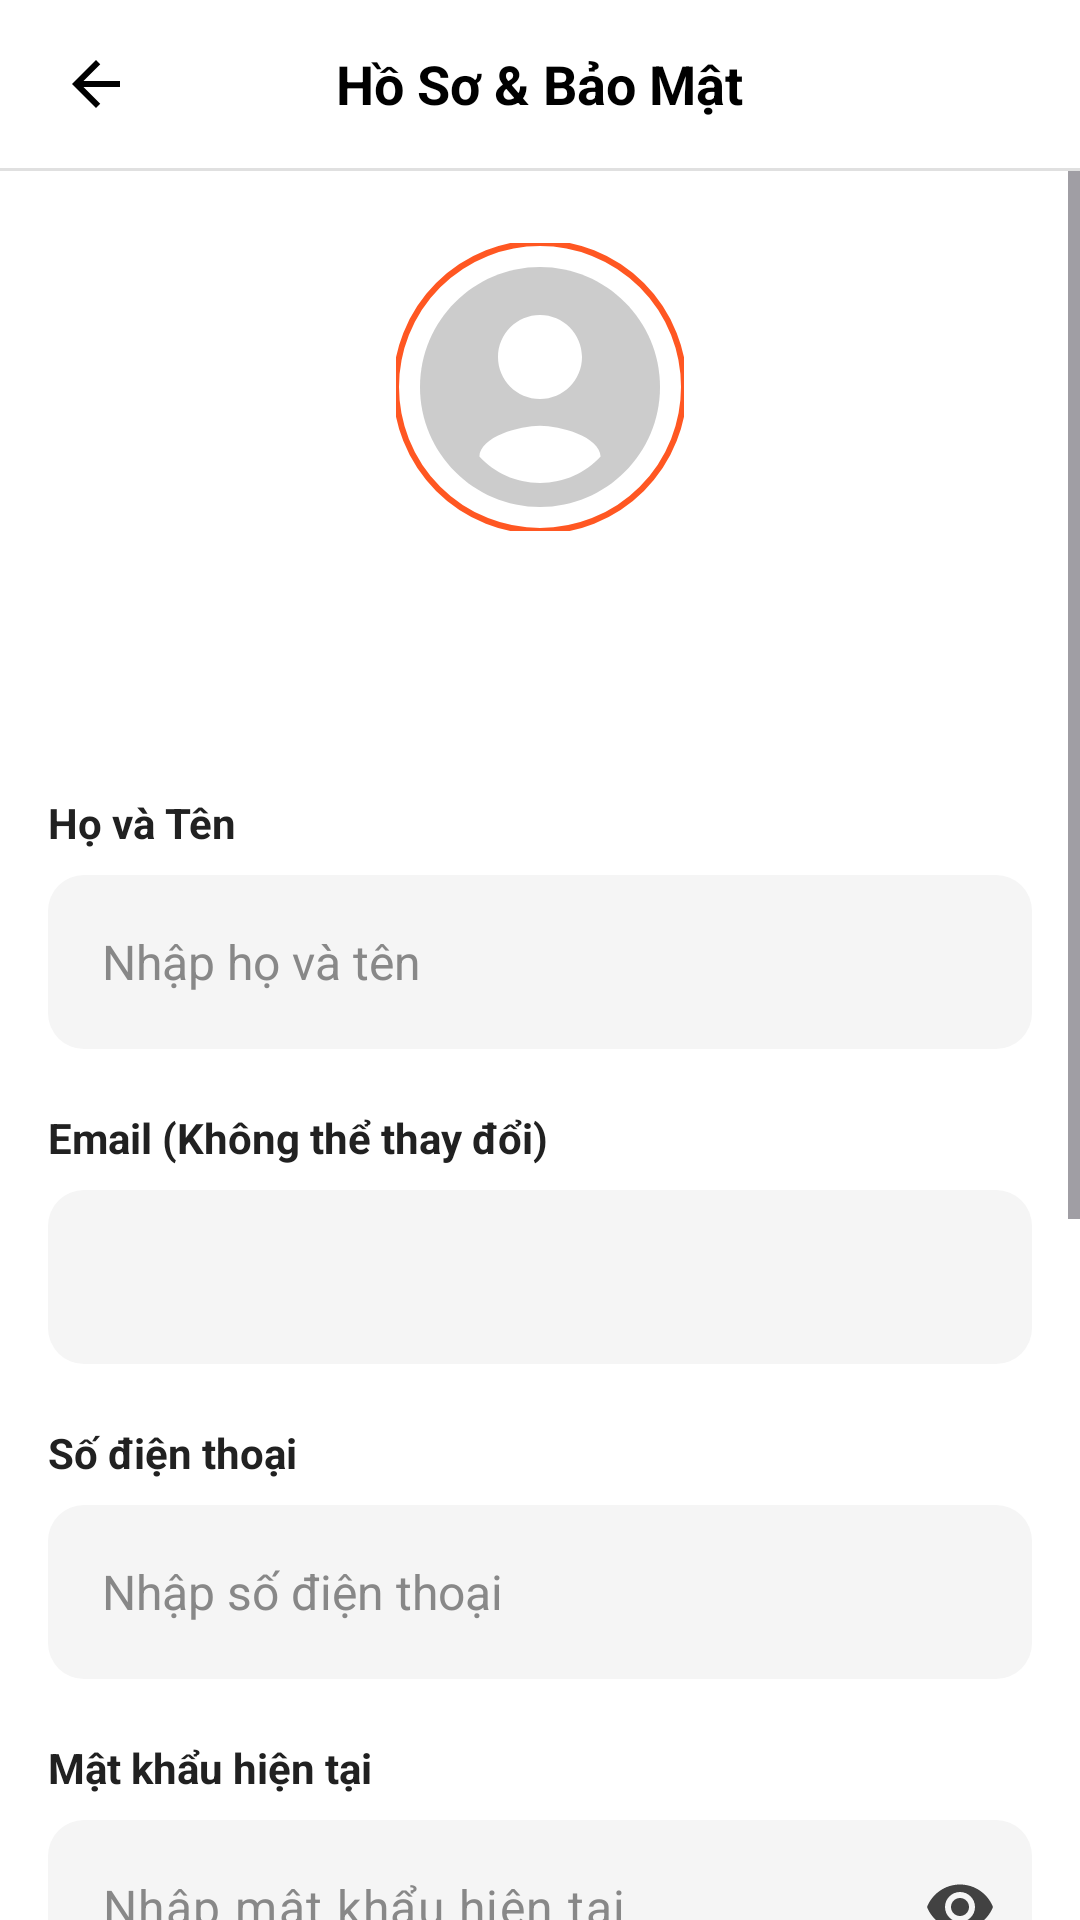

Icon click points for this 1080 × 1920 phone screenshot, format point (x, y):
Quay lại: point (96, 84)
